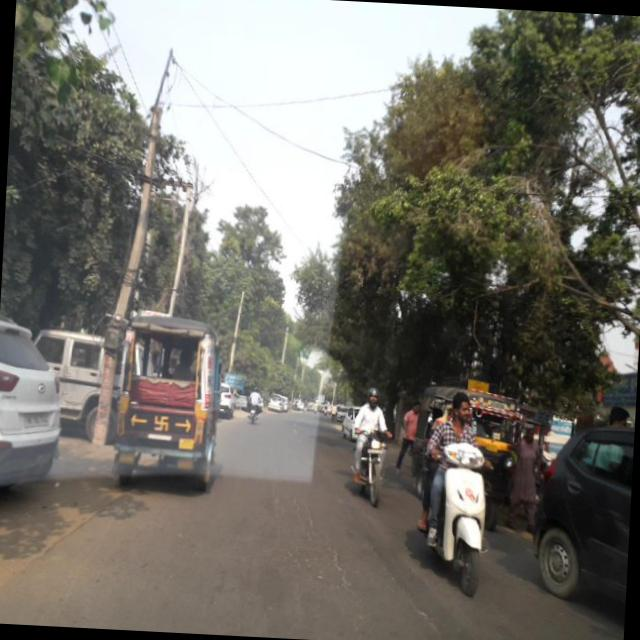crack: (252, 460, 356, 592)
